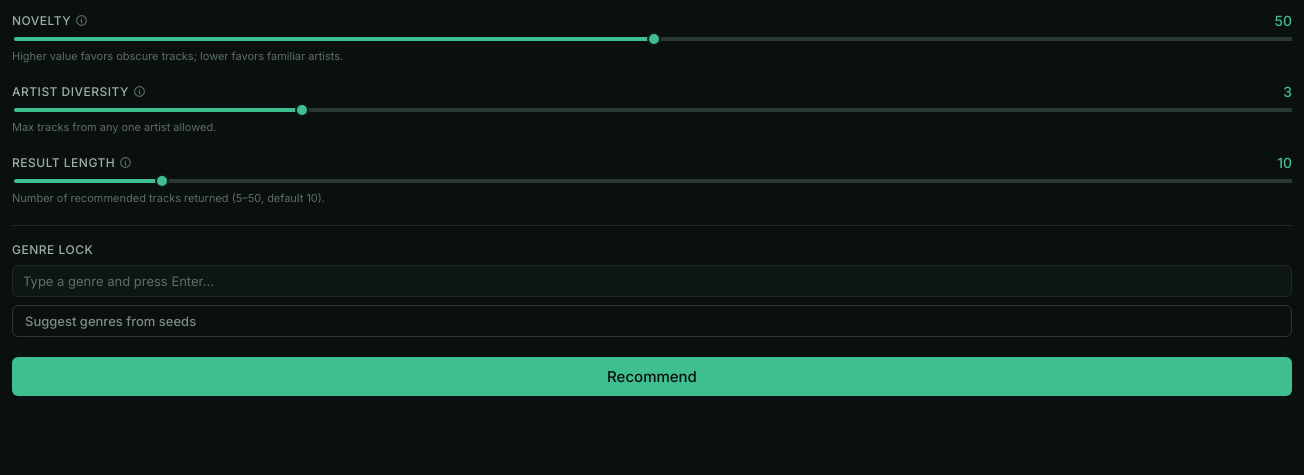
it: ParamsPanel — genre-lock via seed-profile › renders suggested tag chips and clicking one adds it to genreLock
suggest button is enabled?
Click the button "Suggest genres from seeds" at (111, 321), box [12,305,1292,337]
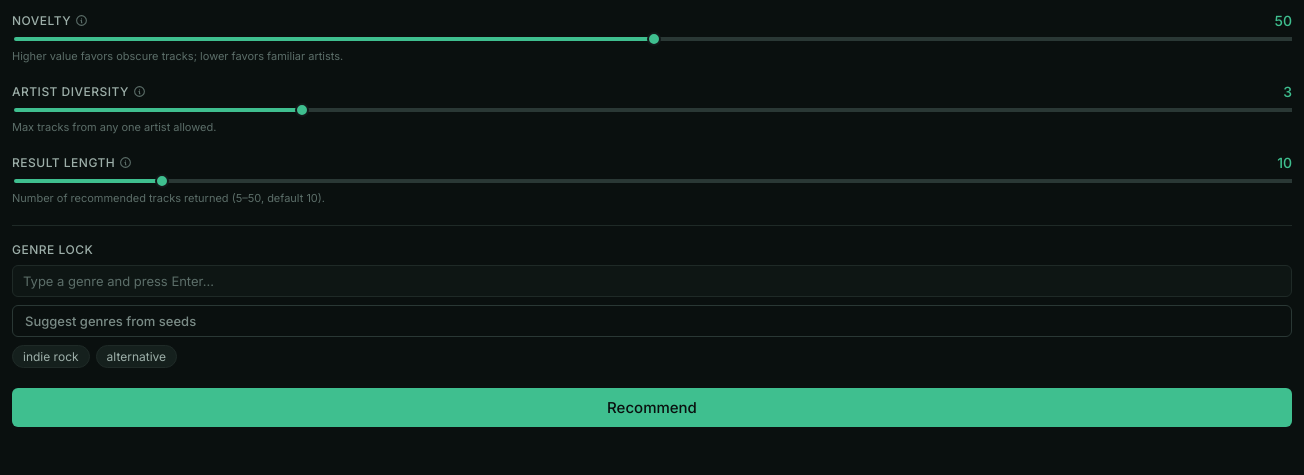
Expected: the button "indie rock" is shown
Expected: the button "alternative" is shown, [96,345,177,368]
cselecting chip locks it?
Click the button "indie rock" at (51, 356), box [12,345,90,368]
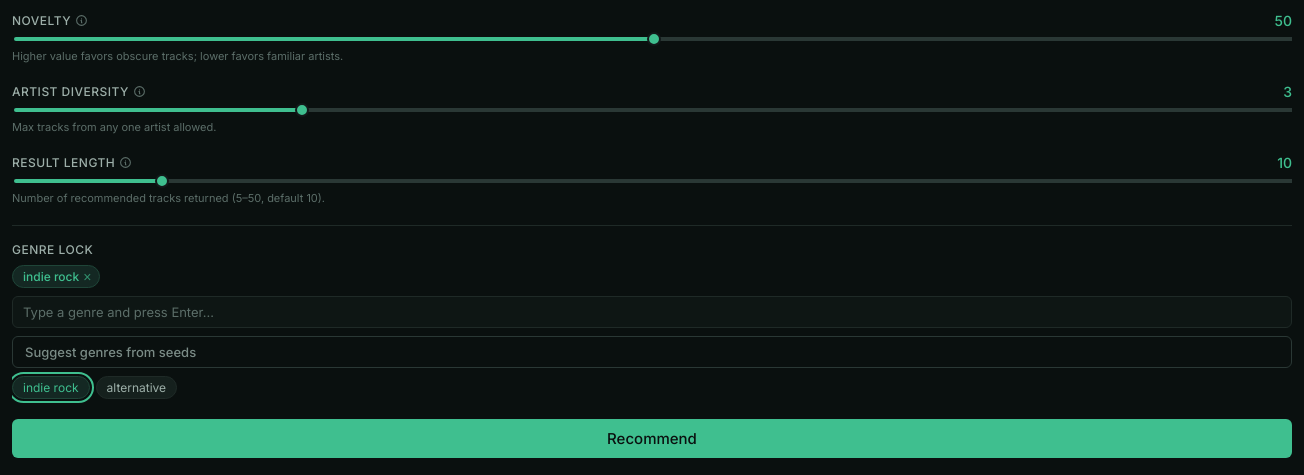
Expected: the button named "Remove genre indie rock" is shown, [83,270,91,284]
